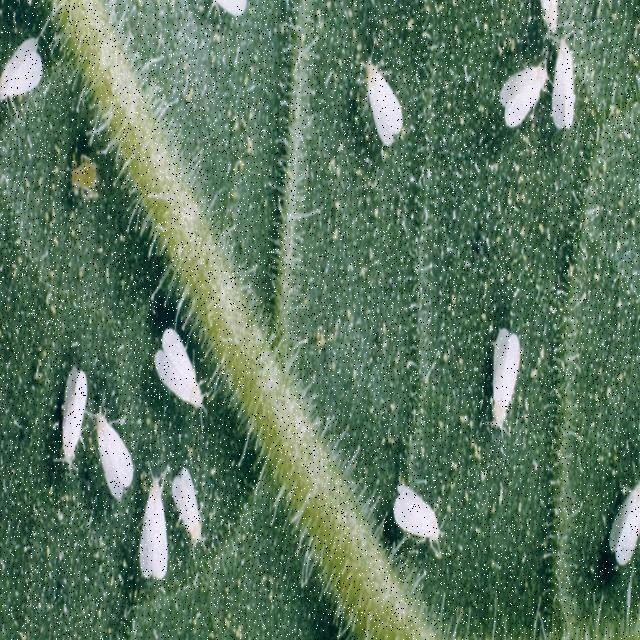Whiteflies: (382, 458, 477, 598), (343, 31, 424, 173), (474, 286, 529, 455), (140, 297, 219, 414), (91, 373, 150, 520), (494, 23, 565, 137), (1, 24, 77, 127), (172, 442, 219, 588), (593, 456, 640, 584), (548, 33, 584, 200), (134, 444, 173, 598), (52, 315, 89, 445)
